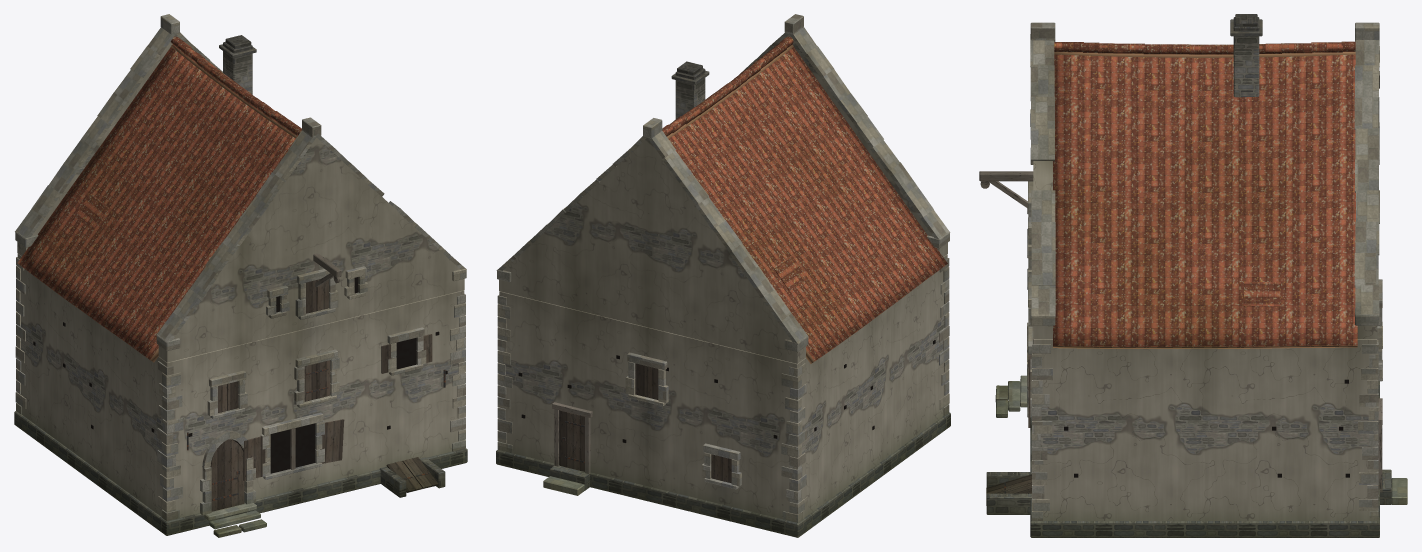
File: merchant_stone_rendered.glb
3 views of the same model, side by side, from view 1: azimuth 30°, elevation 25°; view 2: azimuth 150°, elevation 25°; view 3: azimuth 270°, elevation 25° (orthographic). The views are drawn at different scales.
Visible parts, largest first — view 1: MerchantStoneRenderedLimeRender, MerchantStoneRenderedClayTile, MerchantStoneRenderedLimestoneDressed, MerchantStoneRenderedOakPlank, MerchantStoneRenderedLimestonePlinth, MerchantStoneRenderedRecess, MerchantStoneRenderedLimestoneRubble, MerchantStoneRenderedOakWeathered; view 2: MerchantStoneRenderedLimeRender, MerchantStoneRenderedClayTile, MerchantStoneRenderedLimestoneDressed, MerchantStoneRenderedLimestonePlinth, MerchantStoneRenderedOakPlank, MerchantStoneRenderedLimestoneRubble, MerchantStoneRenderedOakWeathered; view 3: MerchantStoneRenderedClayTile, MerchantStoneRenderedLimeRender, MerchantStoneRenderedLimestoneDressed, MerchantStoneRenderedLimestonePlinth, MerchantStoneRenderedLimestoneRubble, MerchantStoneRenderedOakWeathered, MerchantStoneRenderedOakPlank.
Boxes of the visible parts, x1,y1,x2,y2 form: MerchantStoneRenderedLimeRender: (17,34,464,517); MerchantStoneRenderedClayTile: (17,36,301,362); MerchantStoneRenderedLimestoneDressed: (15,14,466,537); MerchantStoneRenderedOakPlank: (210,279,438,511); MerchantStoneRenderedLimestonePlinth: (14,411,467,535); MerchantStoneRenderedRecess: (33,277,447,473); MerchantStoneRenderedLimestoneRubble: (223,35,252,94); MerchantStoneRenderedOakWeathered: (290,253,341,469); MerchantStoneRenderedLimeRender: (499,34,947,518); MerchantStoneRenderedClayTile: (662,36,947,363); MerchantStoneRenderedLimestoneDressed: (496,14,950,522); MerchantStoneRenderedLimestonePlinth: (496,412,950,537); MerchantStoneRenderedOakPlank: (560,363,731,482); MerchantStoneRenderedLimestoneRubble: (675,61,705,119); MerchantStoneRenderedOakWeathered: (552,402,592,474); MerchantStoneRenderedClayTile: (1053,41,1357,348); MerchantStoneRenderedLimeRender: (1033,161,1377,520); MerchantStoneRenderedLimestoneDressed: (995,19,1407,520); MerchantStoneRenderedLimestonePlinth: (986,381,1391,537); MerchantStoneRenderedLimestoneRubble: (1233,14,1259,97); MerchantStoneRenderedOakWeathered: (979,171,1382,492); MerchantStoneRenderedOakPlank: (986,354,1031,505).
Bounding box in the file's own units: 11.64 × 13.7 × 11.95.
9 materials, 9 textured.
